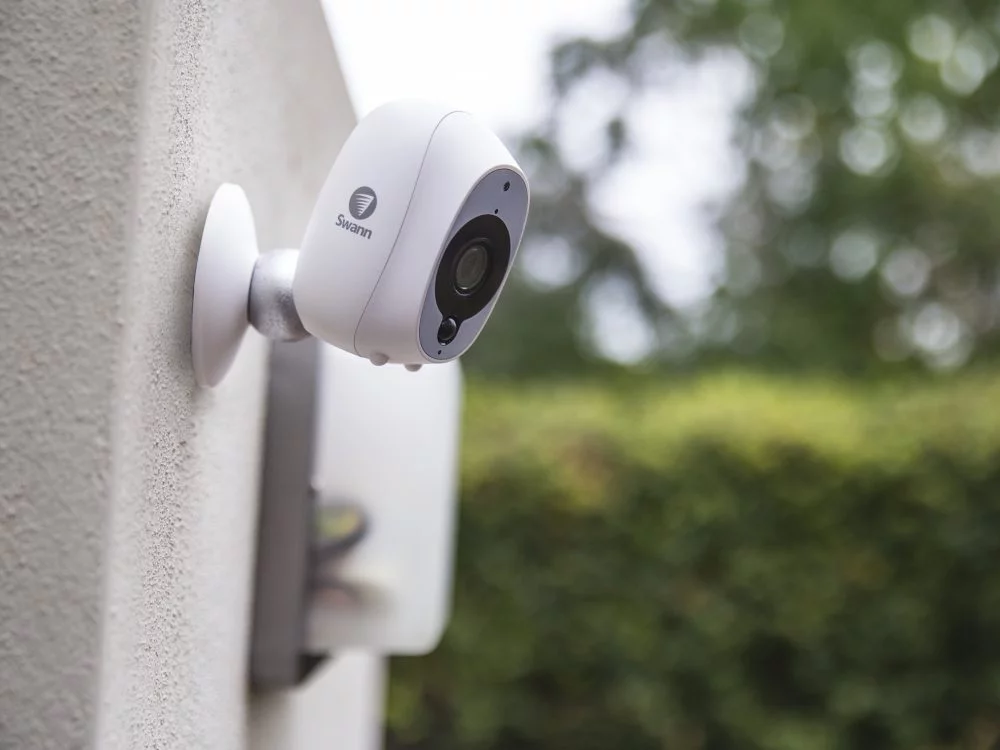Nest Cam: (275, 84, 538, 373)
